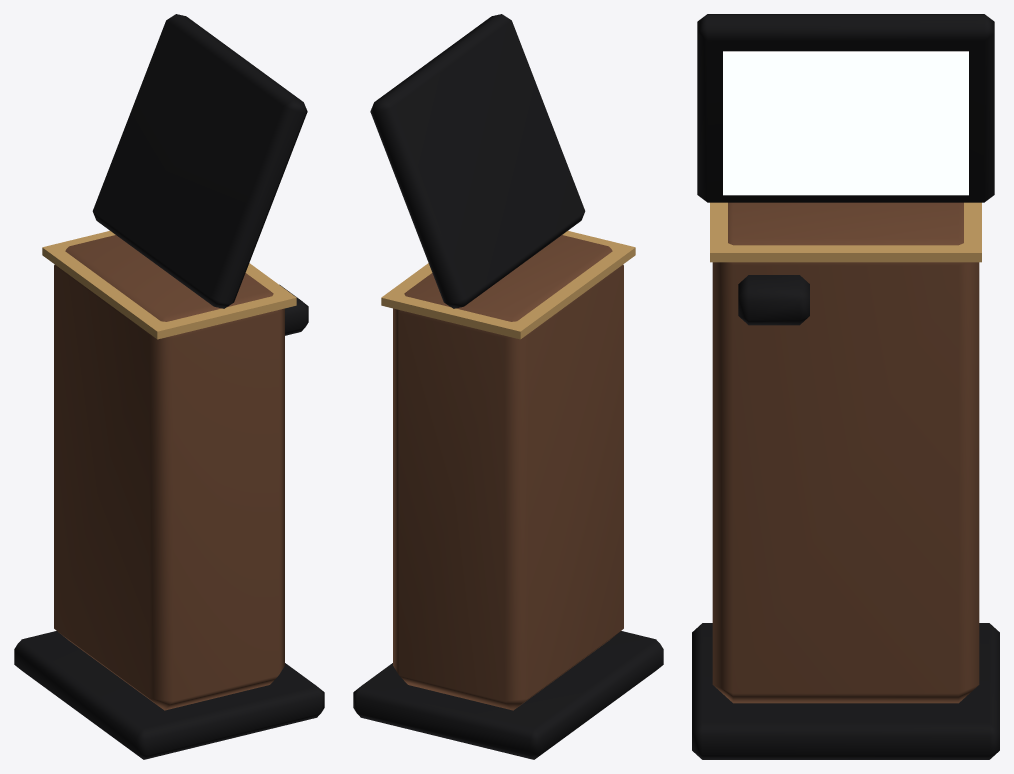
Rendered from kiosk.glb.
3 views of the same model, side by side, from view 1: azimuth 30°, elevation 25°; view 2: azimuth 150°, elevation 25°; view 3: azimuth 270°, elevation 25° (orthographic). The views are drawn at different scales.
Parts seen in each view (by area): view 1: Mesh_Body, Mesh_Bezel, Mesh_Plinth, Mesh_Trim, Mesh_Reader; view 2: Mesh_Body, Mesh_Bezel, Mesh_Plinth, Mesh_Trim; view 3: Mesh_Body, Mesh_Screen, Mesh_Plinth, Mesh_Bezel, Mesh_Trim, Mesh_Reader.
Boxes of the visible parts, x1=… form: Mesh_Body: x1=54, y1=235, x2=284, y2=710; Mesh_Bezel: x1=92, y1=14, x2=307, y2=308; Mesh_Plinth: x1=14, y1=631, x2=324, y2=759; Mesh_Trim: x1=42, y1=231, x2=296, y2=339; Mesh_Reader: x1=279, y1=284, x2=308, y2=335; Mesh_Body: x1=393, y1=235, x2=623, y2=710; Mesh_Bezel: x1=370, y1=14, x2=585, y2=308; Mesh_Plinth: x1=353, y1=631, x2=663, y2=759; Mesh_Trim: x1=381, y1=231, x2=635, y2=339; Mesh_Body: x1=712, y1=202, x2=979, y2=703; Mesh_Screen: x1=723, y1=51, x2=968, y2=195; Mesh_Plinth: x1=692, y1=623, x2=999, y2=759; Mesh_Bezel: x1=697, y1=14, x2=994, y2=202; Mesh_Trim: x1=710, y1=202, x2=981, y2=262; Mesh_Reader: x1=738, y1=275, x2=809, y2=325.
Bounding box in the file's own units: 0.51 × 1.58 × 0.6.
